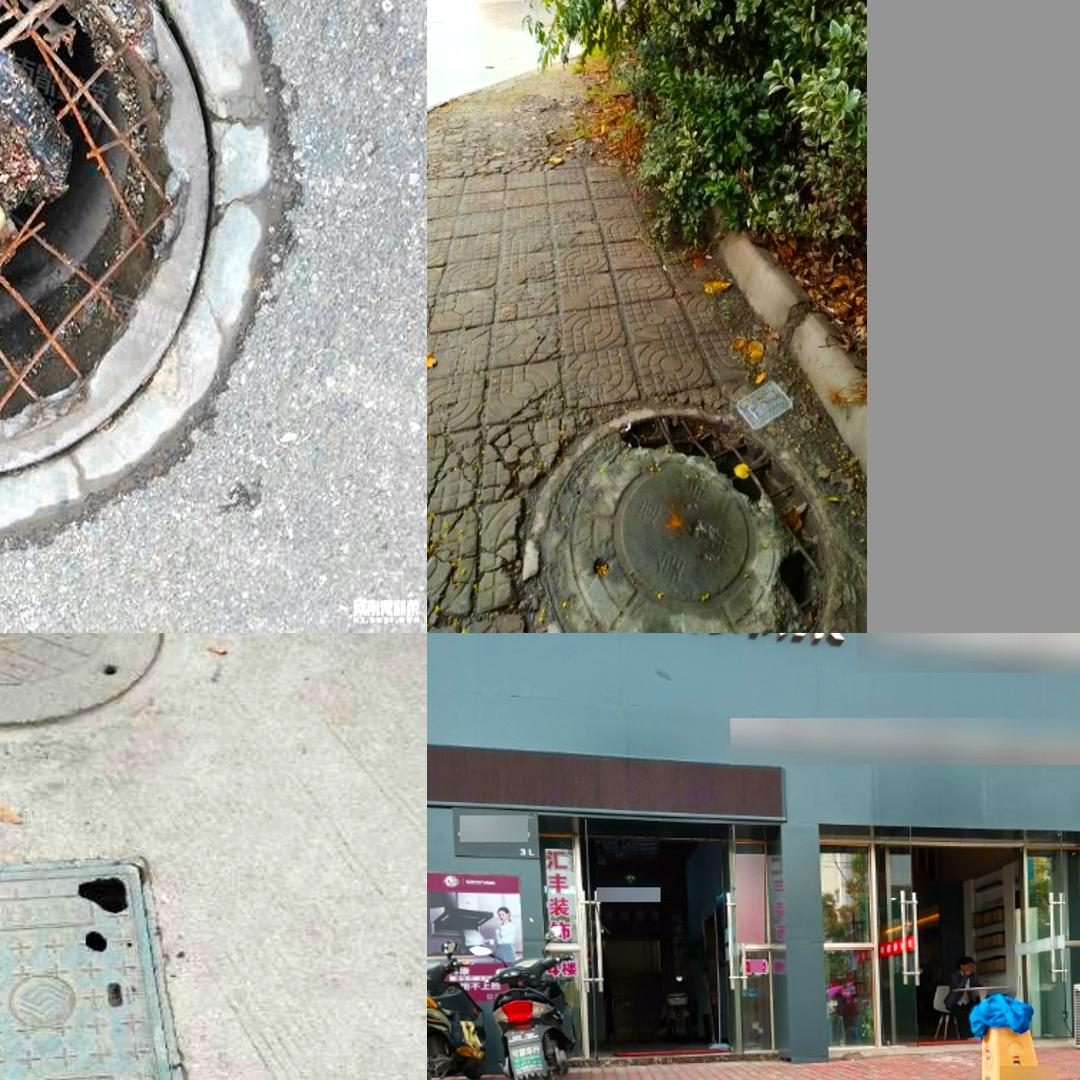broke: (0, 0, 306, 554), (516, 404, 830, 633), (0, 861, 191, 1080)
